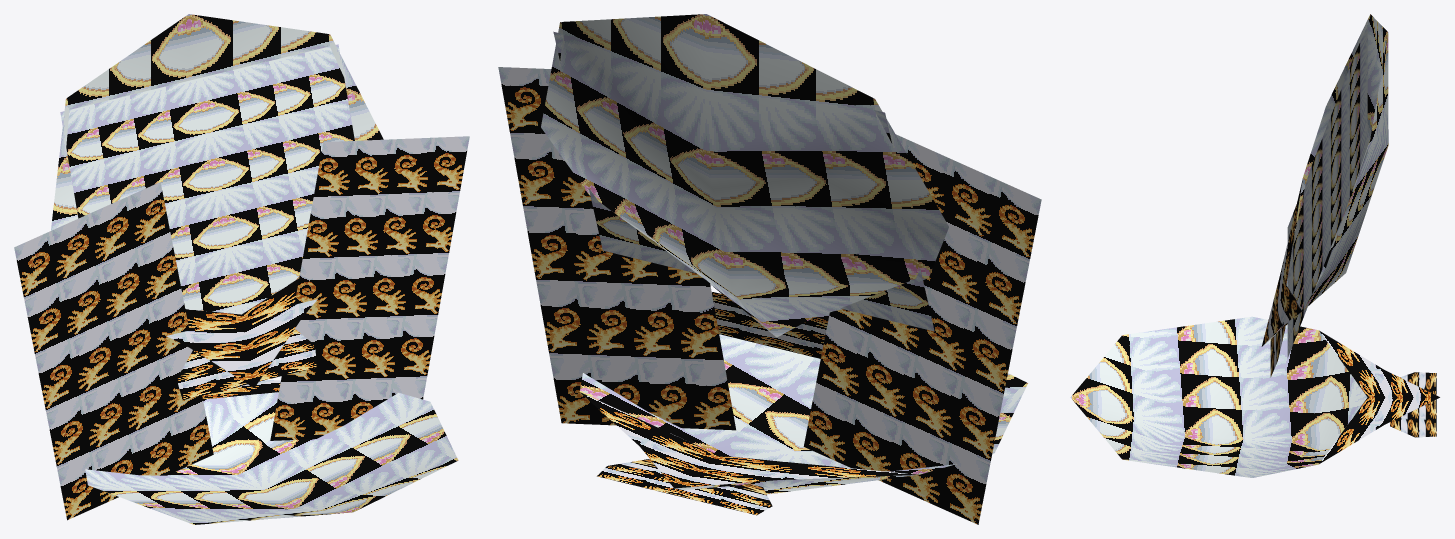
The picture shows the model from 3 angles, left to right: view 1: azimuth 30°, elevation 25°; view 2: azimuth 150°, elevation 25°; view 3: azimuth 270°, elevation 25°; orthographic projection. The views are drawn at different scales.
Visible parts, largest first — view 1: 3512kg_sh2_23; view 2: 3512kg_sh2_23; view 3: 3512kg_sh2_23.
Boxes of the visible parts, x1,y1,x2,y2 form: 3512kg_sh2_23: [14, 14, 469, 524]; 3512kg_sh2_23: [498, 14, 1041, 524]; 3512kg_sh2_23: [1070, 14, 1439, 477].
Size of the model in its own units: 1.05 by 0.9358 by 0.7622.
2 materials, 2 textured.
